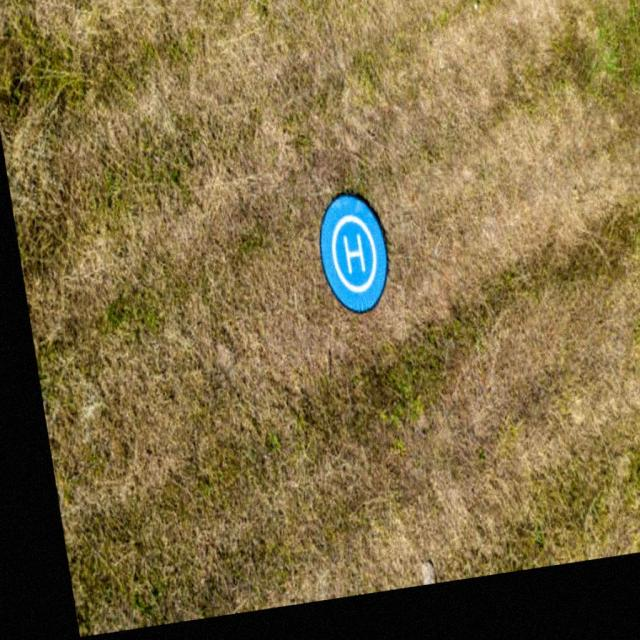helipad: (328, 210, 380, 296)
